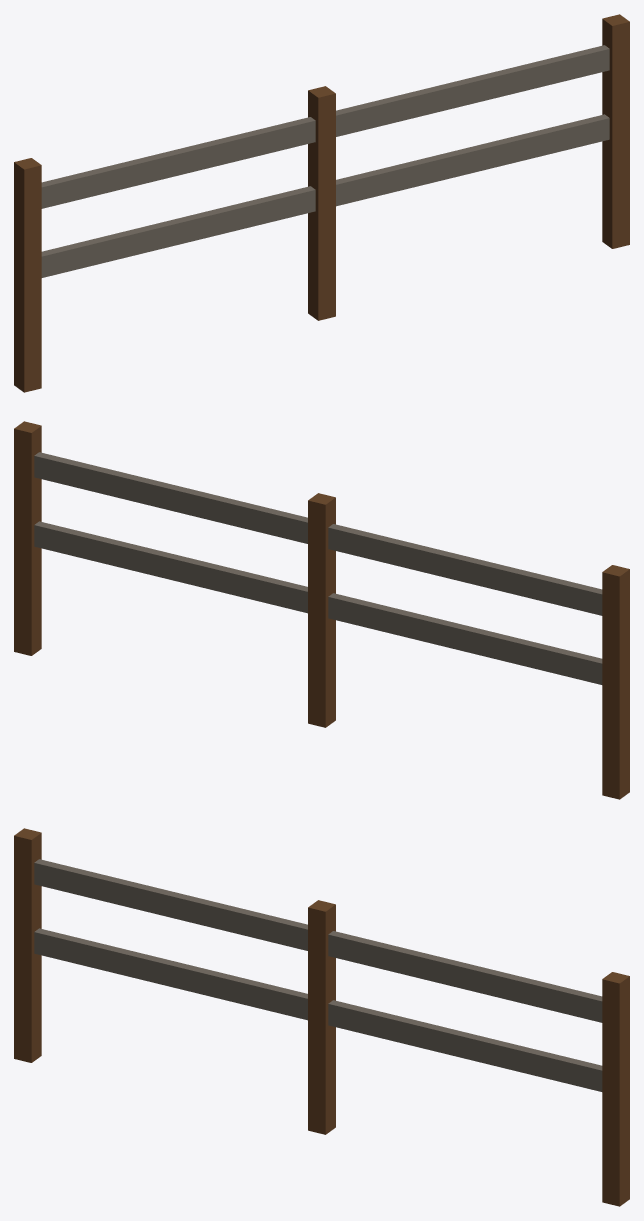
Rendered from fence.glb.
3 views of the same model, one above another, from view 1: azimuth 30°, elevation 25°; view 2: azimuth 150°, elevation 25°; view 3: azimuth 330°, elevation 25° (orthographic).
Parts seen in each view (by area): view 1: fence; view 2: fence; view 3: fence.
Part boxes in pixels (x1,y1,x2,y2): fence: [14, 14, 629, 392]; fence: [14, 421, 629, 799]; fence: [14, 828, 629, 1206].
Size of the model in its own units: 4.12 by 1.45 by 0.12.
